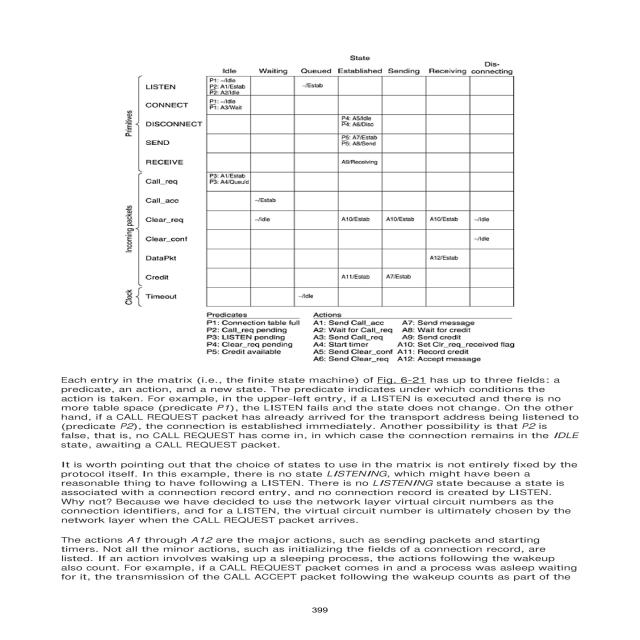diagram: (109, 34, 528, 367)
